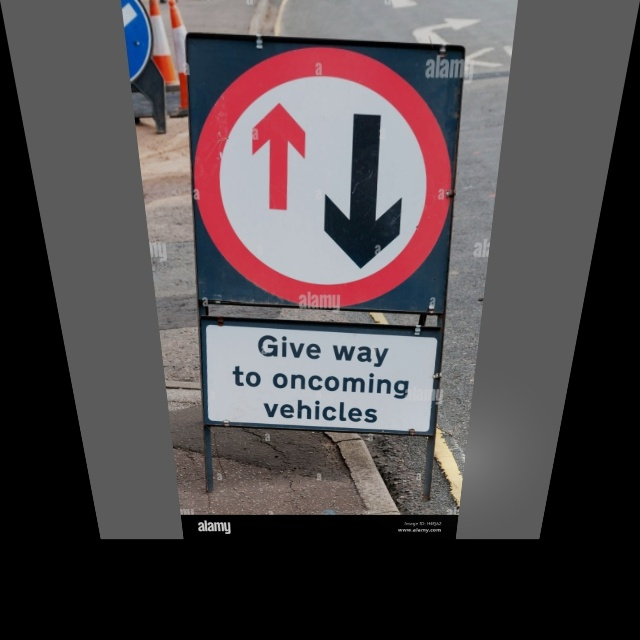Priority_for_Oncoming_Traffic: (184, 45, 467, 308)
